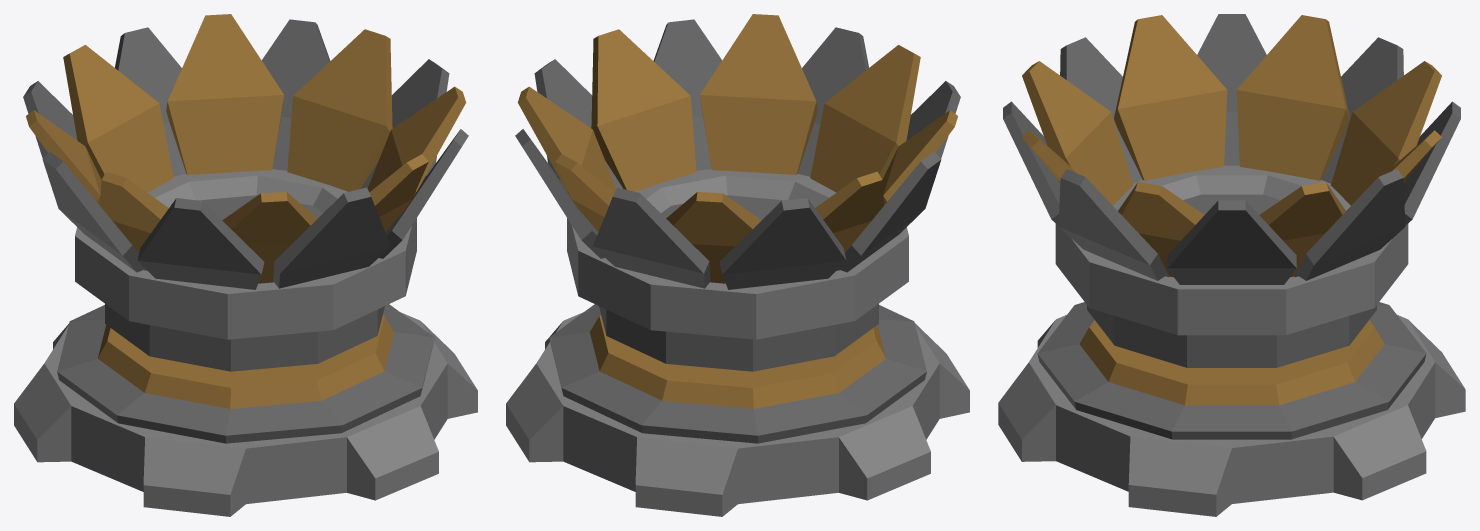
File: teleporter.glb
3 views of the same model, side by side, from view 1: azimuth 30°, elevation 25°; view 2: azimuth 150°, elevation 25°; view 3: azimuth 270°, elevation 25° (orthographic).
Parts seen in each view (by area): view 1: teleporter; view 2: teleporter; view 3: teleporter.
Boxes of the visible parts, x1=… form: teleporter: x1=14, y1=14, x2=477, y2=516; teleporter: x1=506, y1=14, x2=969, y2=516; teleporter: x1=998, y1=14, x2=1465, y2=516.
Size of the model in its own units: 3 by 2.25 by 3.
